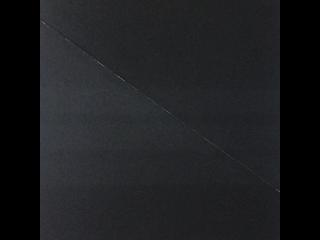crack: (39, 12, 280, 199)
